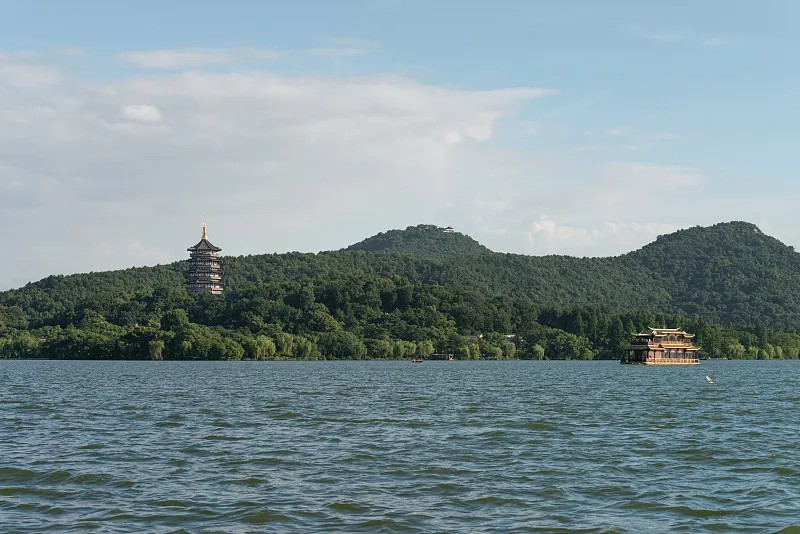Leifeng: (183, 221, 223, 300)
